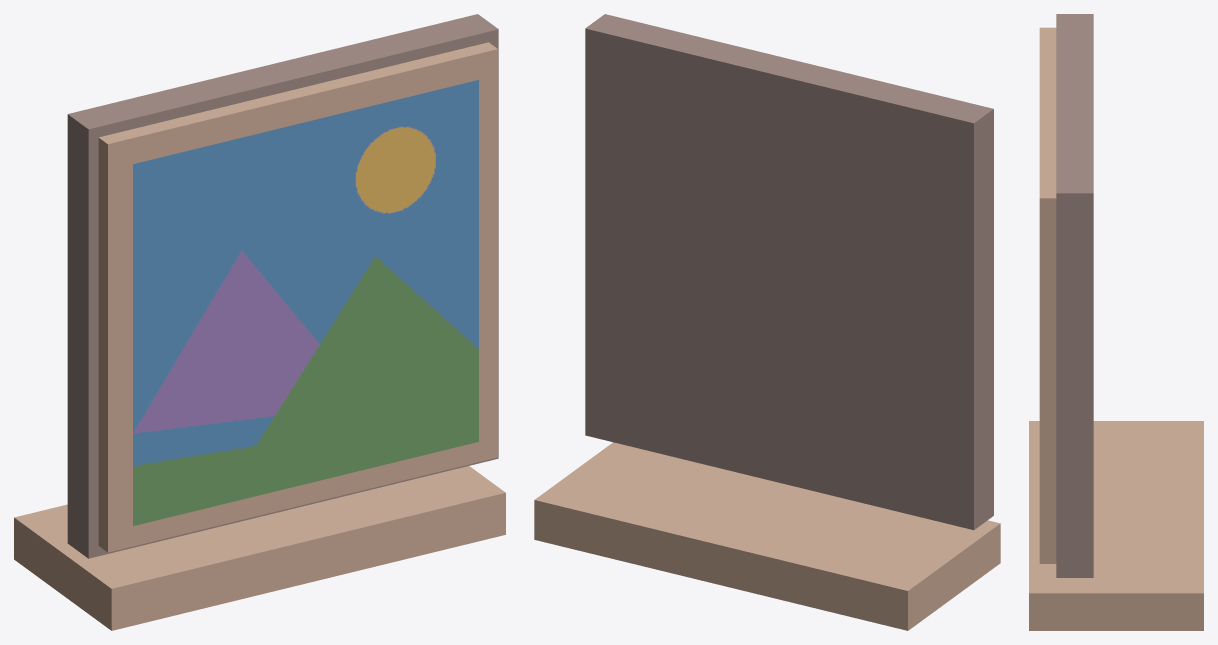
The model's file is 04_marco_fotos.glb.
3 renders of one model, left to right at view 1: azimuth 30°, elevation 25°; view 2: azimuth 150°, elevation 25°; view 3: azimuth 270°, elevation 25°, orthographic. The views are drawn at different scales.
Visible parts, largest first — view 1: surface, body (×2); view 2: body (×2); view 3: body (×2).
Part boxes in pixels (left/top/right/bottom): surface: left=133, top=80, right=478, bottom=525; body (×2): left=14, top=14, right=505, bottom=630; body (×2): left=534, top=14, right=1000, bottom=630; body (×2): left=1029, top=14, right=1203, bottom=630.
Bounding box in the file's own units: 0.51 × 0.585 × 0.21.
3 materials, 1 textured.
